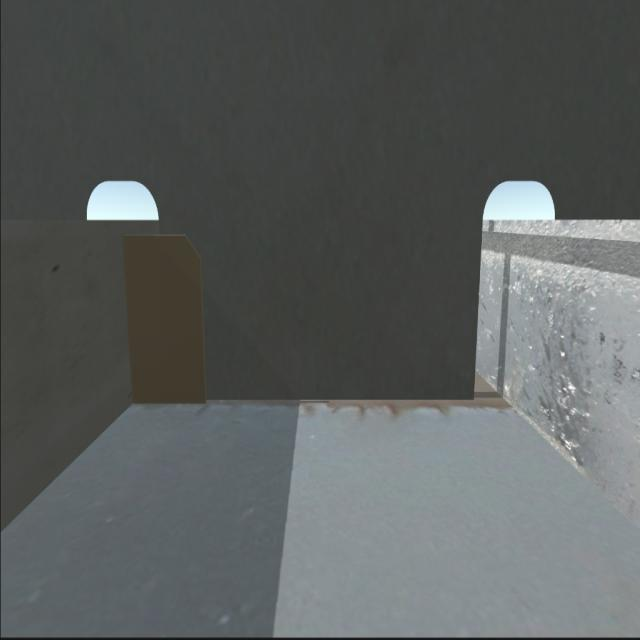fillet_yong_jeop_jang: (130, 383, 475, 409)
longi_yong_jeop_jang: (119, 234, 146, 400)
plate_CP03: (124, 233, 206, 401)
